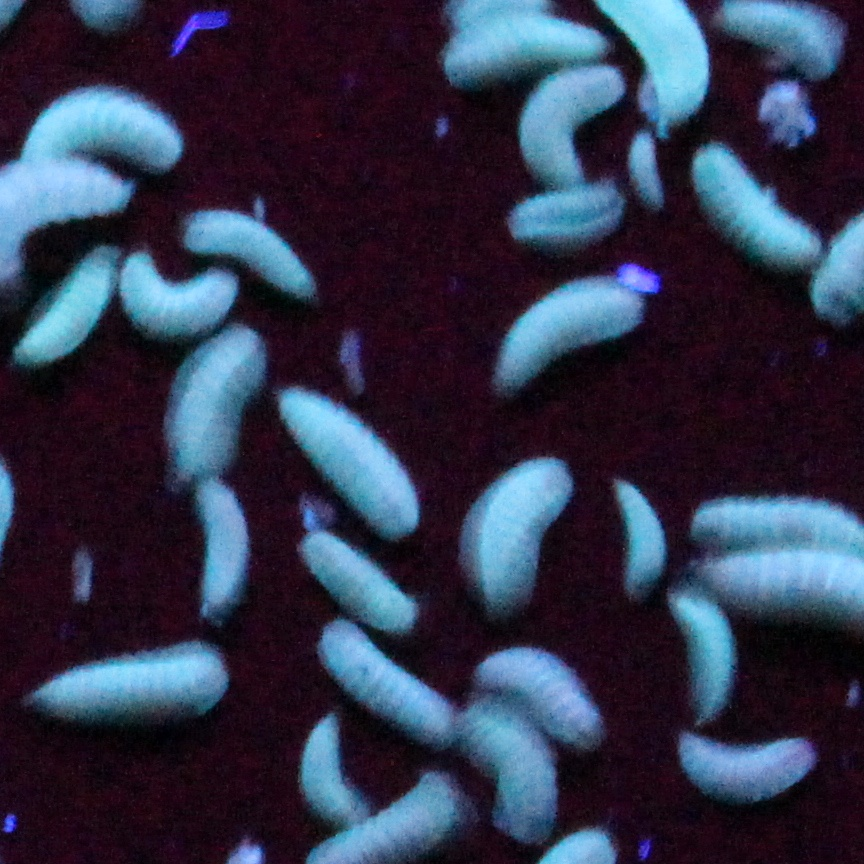larve: (309, 614, 463, 747), (278, 393, 421, 535), (490, 276, 648, 397), (3, 239, 130, 362), (26, 83, 190, 176), (473, 447, 569, 605), (694, 145, 819, 260), (176, 326, 263, 491), (28, 645, 234, 712), (515, 62, 623, 185), (457, 701, 553, 839), (444, 14, 611, 93), (471, 649, 609, 743), (182, 208, 326, 297), (301, 533, 421, 633), (119, 249, 240, 335), (669, 591, 736, 724), (196, 472, 255, 616), (684, 733, 811, 799), (298, 712, 367, 824), (611, 476, 667, 593), (509, 185, 623, 239), (632, 133, 665, 208)
